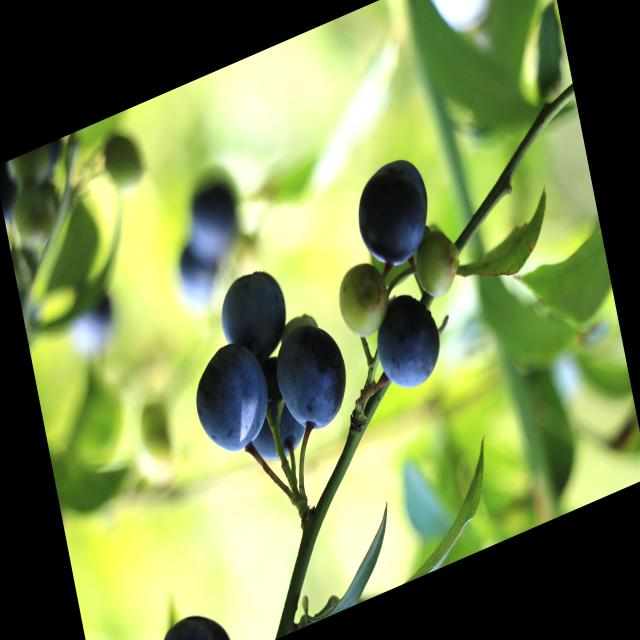blueberry: (346, 145, 440, 285), (186, 332, 278, 464), (270, 311, 355, 444), (369, 280, 445, 401), (239, 348, 309, 470), (214, 261, 289, 365), (148, 598, 238, 640)
blueberry-unripe: (330, 251, 398, 349), (408, 218, 464, 306)
